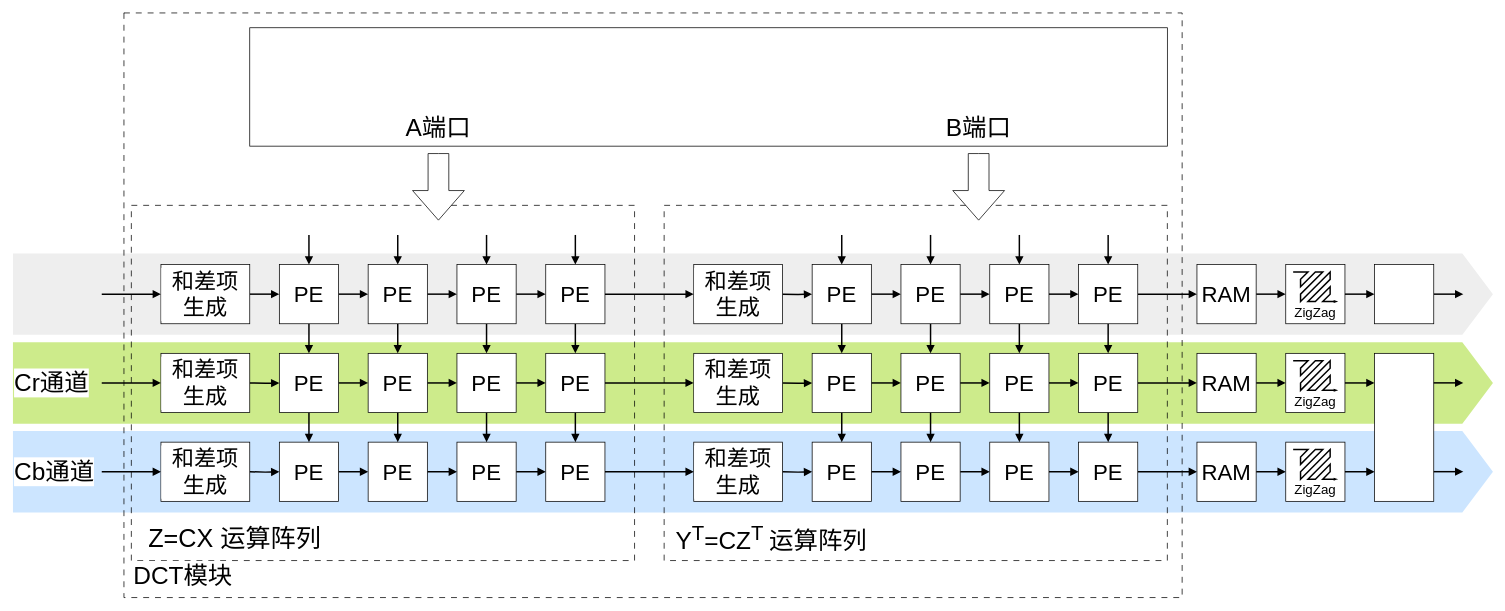
The diagram is 1505 pixels wide and 611 high, and some of its shapes have lost their labels. Each missing label, with the box of its shape:
Y 通道: (13, 253, 1493, 334)
亮度量化: (1374, 264, 1434, 324)
余弦常数表双口ROM: (249, 27, 1167, 146)
色度量化: (1374, 353, 1434, 501)
